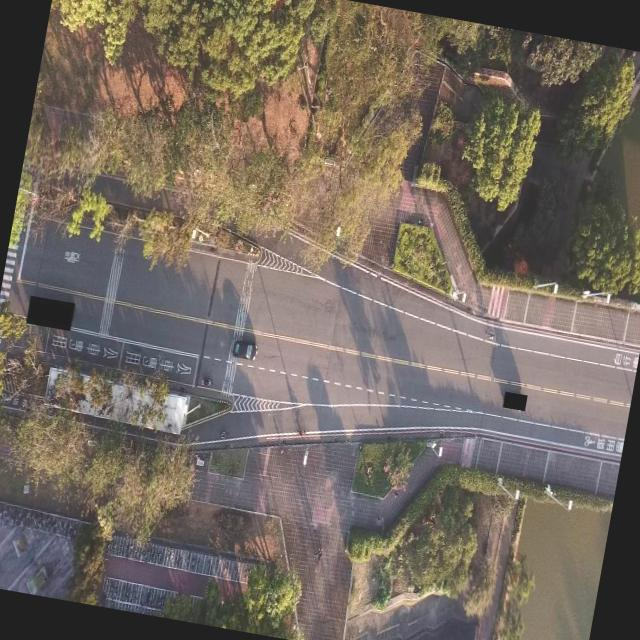car: (227, 331, 259, 363)
